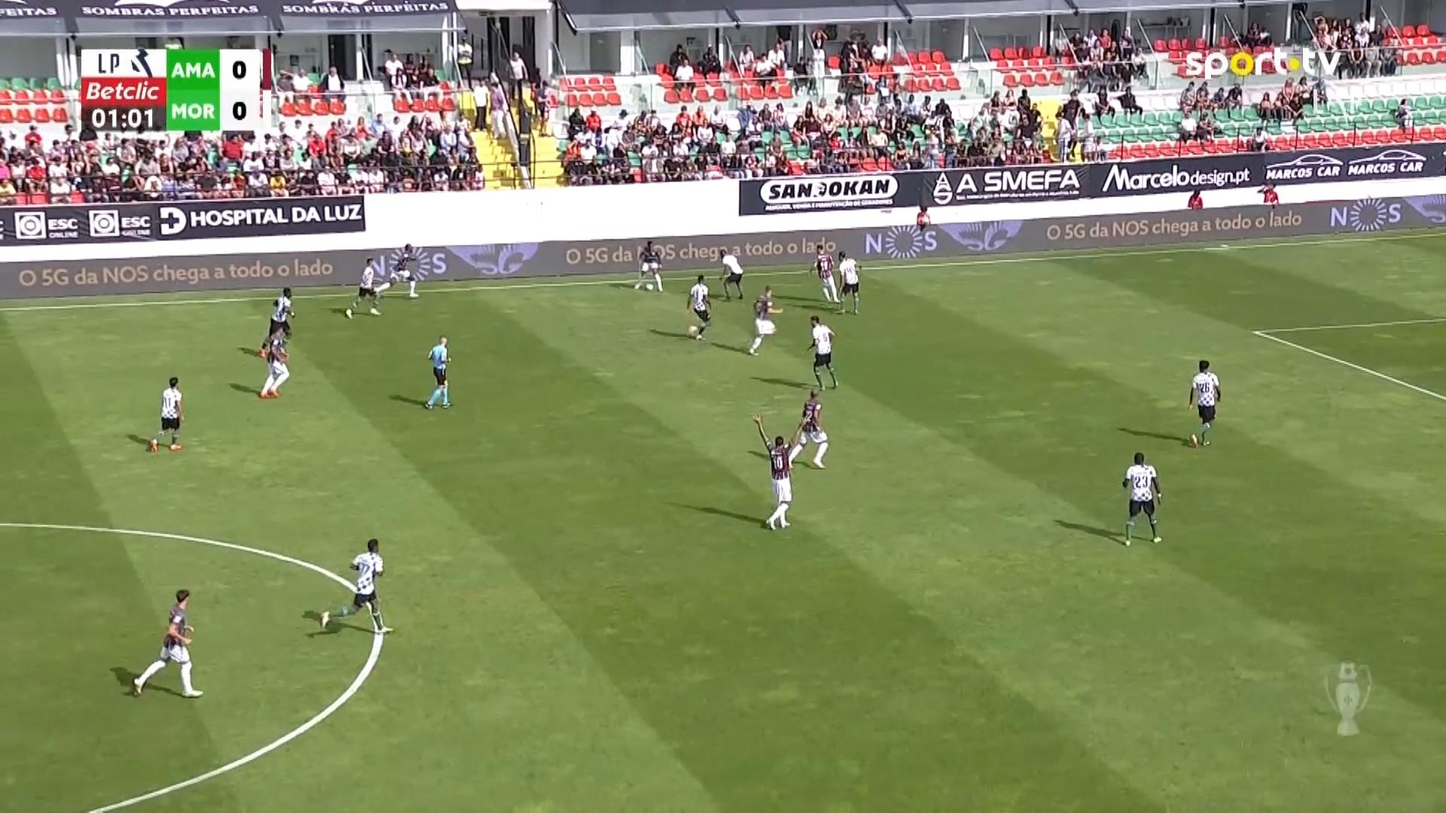ball: (645, 282, 654, 292)
player: (130, 588, 203, 698), (319, 537, 395, 634), (752, 413, 807, 531), (1121, 451, 1163, 546), (146, 376, 185, 452), (1187, 359, 1221, 446), (795, 388, 828, 468), (746, 284, 783, 355), (375, 242, 419, 298), (805, 314, 837, 390), (343, 257, 382, 319), (257, 329, 290, 398), (808, 243, 839, 303), (834, 249, 862, 315), (685, 273, 711, 340), (633, 239, 664, 292), (268, 286, 294, 341), (719, 245, 744, 300)
referee: (424, 335, 452, 410)
